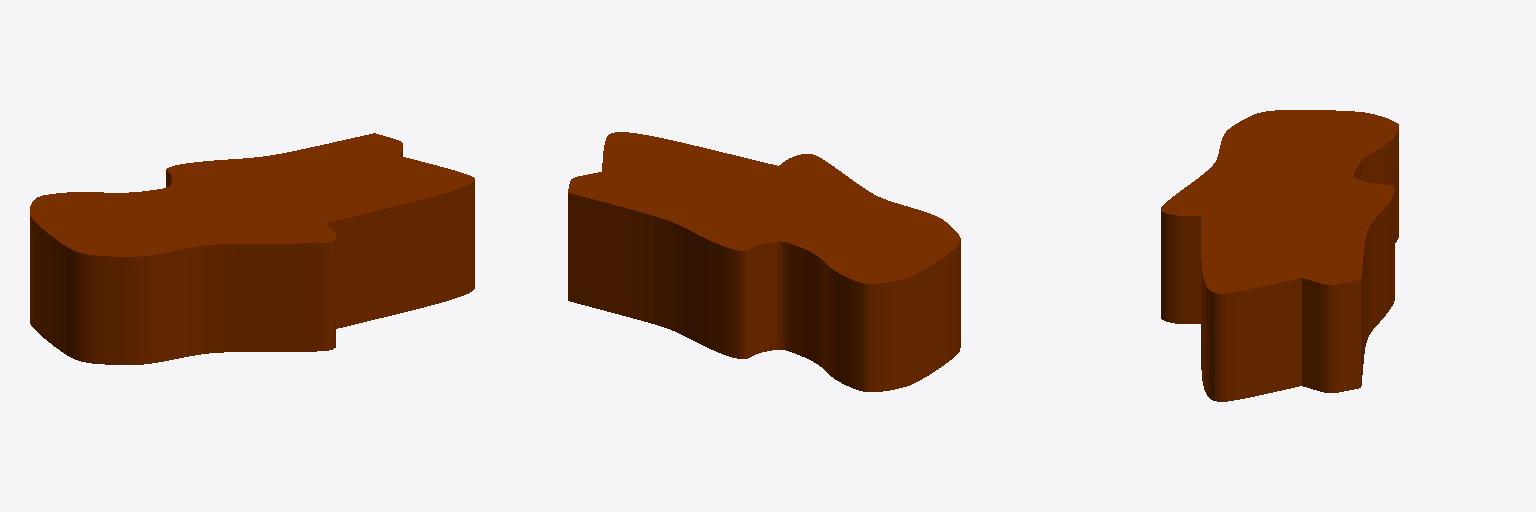
3 views of the same model, side by side, from view 1: azimuth 30°, elevation 25°; view 2: azimuth 150°, elevation 25°; view 3: azimuth 270°, elevation 25° (orthographic).
Visible parts, largest first — view 1: Curve.024_path4224; view 2: Curve.024_path4224; view 3: Curve.024_path4224.
Boxes of the visible parts, <box> form: Curve.024_path4224: <box>30,133,474,364</box>; Curve.024_path4224: <box>568,132,960,391</box>; Curve.024_path4224: <box>1161,110,1398,401</box>.
Bounding box in the file's own units: 0.3641 × 0.1 × 0.1998.